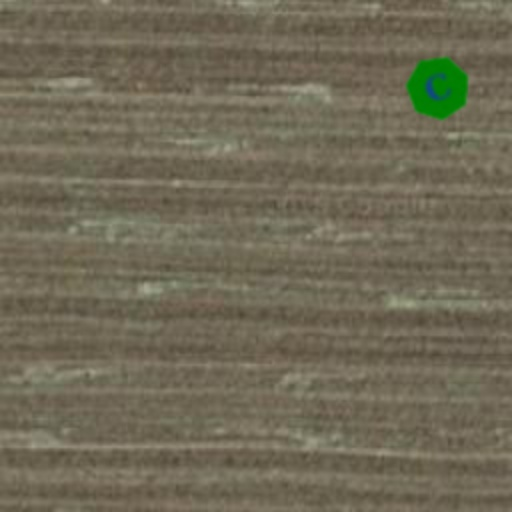heptagon: (394, 44, 482, 132)
